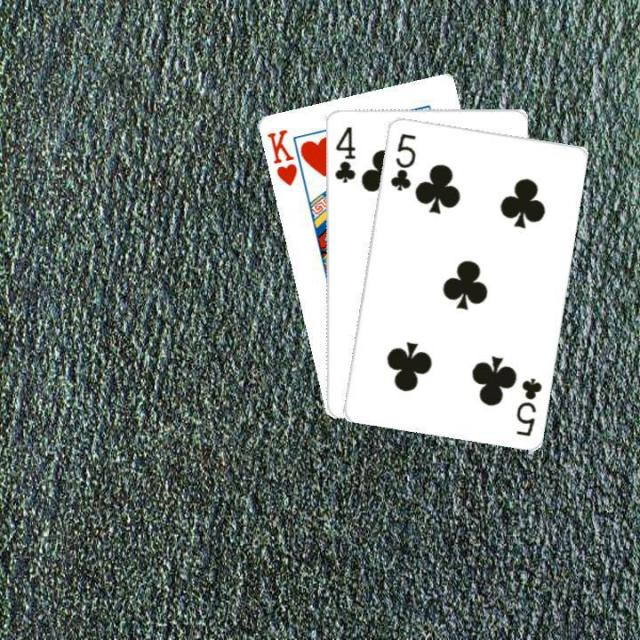4C: (331, 122, 356, 184)
5C: (511, 373, 544, 438), (386, 128, 417, 192)
KH: (262, 126, 299, 188)
